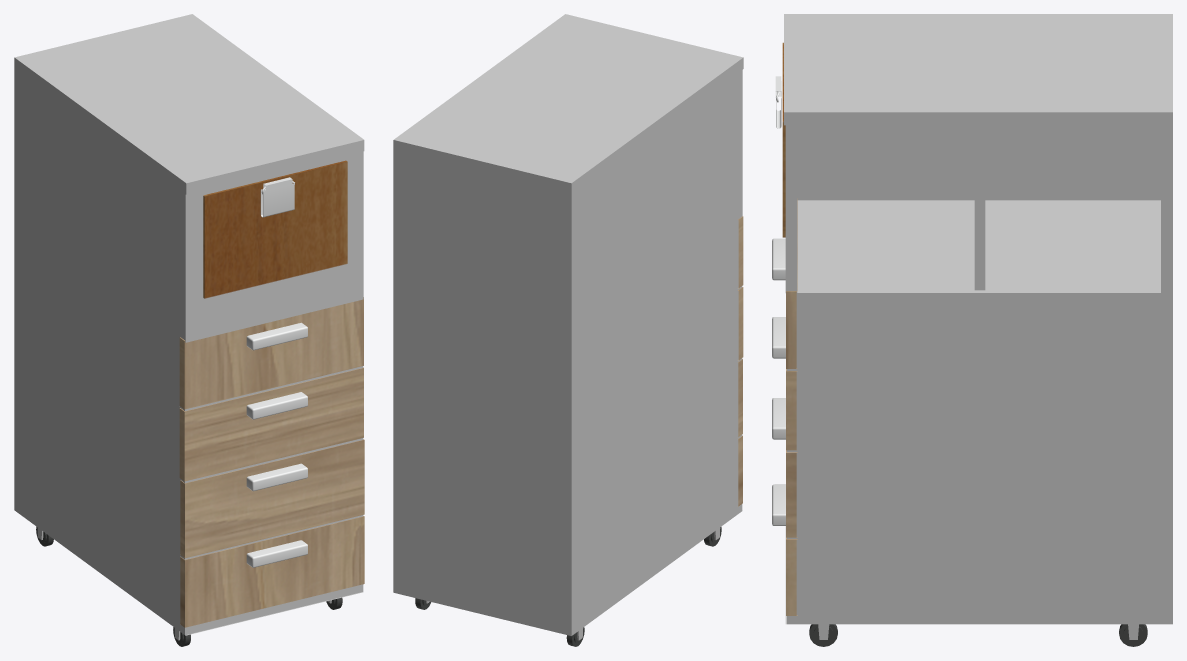
File: LC_3098_DresserB_LOD3.FBX
3 renders of one model, left to right at view 1: azimuth 30°, elevation 25°; view 2: azimuth 150°, elevation 25°; view 3: azimuth 270°, elevation 25°, orthographic. The views are drawn at different scales.
Visible parts, largest first — view 1: LC_3098_DresserB_LOD3; view 2: LC_3098_DresserB_LOD3; view 3: LC_3098_DresserB_LOD3.
Part boxes in pixels (left/top/right/bottom): LC_3098_DresserB_LOD3: left=14, top=14, right=364, bottom=646; LC_3098_DresserB_LOD3: left=393, top=14, right=743, bottom=646; LC_3098_DresserB_LOD3: left=772, top=14, right=1172, bottom=646.
Size of the model in its own units: 50.99 by 129 by 86.92.
1 material, 1 textured.
